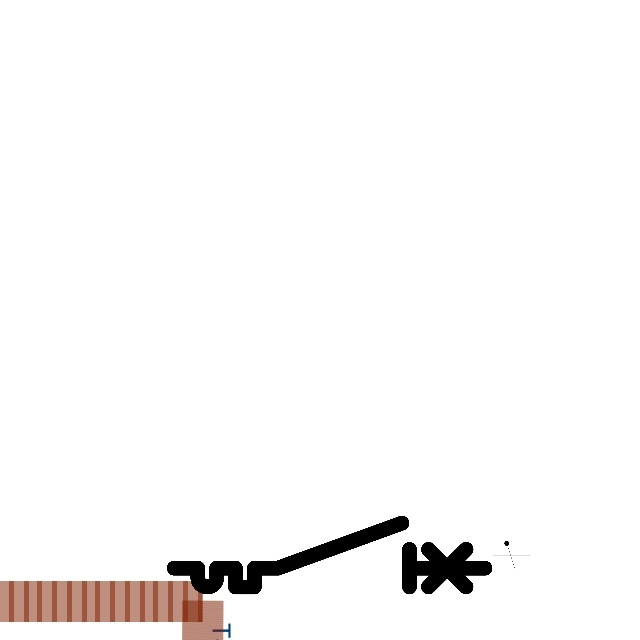interruptor_termomagnetico: (166, 515, 493, 595)
